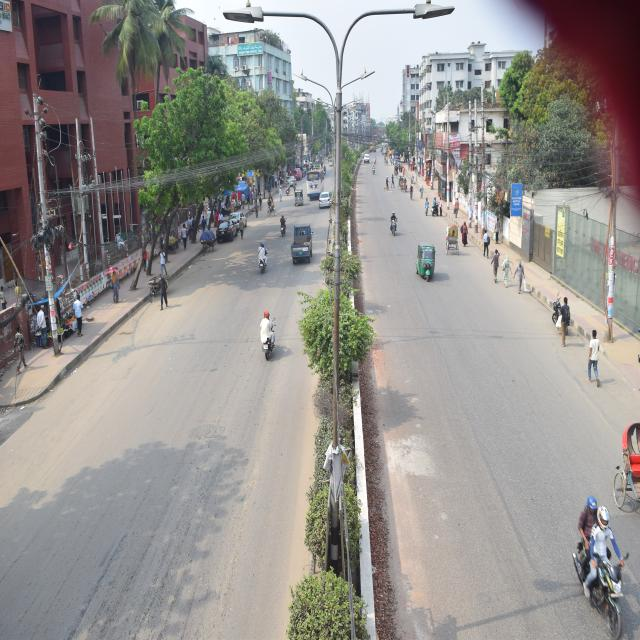car: (226, 201, 250, 228), (216, 220, 238, 245), (318, 184, 332, 216)
motorbike: (247, 312, 286, 370), (253, 244, 268, 278), (386, 206, 396, 243), (280, 214, 287, 246), (368, 168, 378, 179)
pickup-van: (292, 218, 319, 275)
